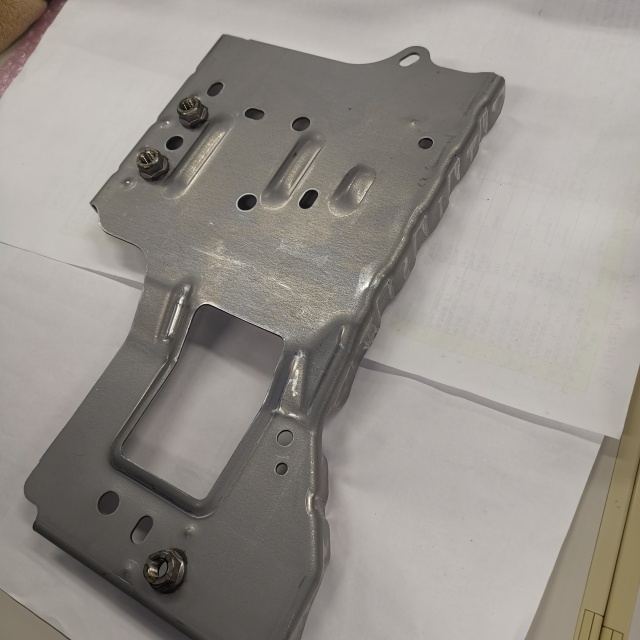dog: (141, 545, 189, 596), (134, 146, 172, 185), (176, 92, 210, 132)
